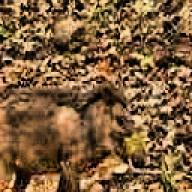boar: (0, 78, 148, 192)
